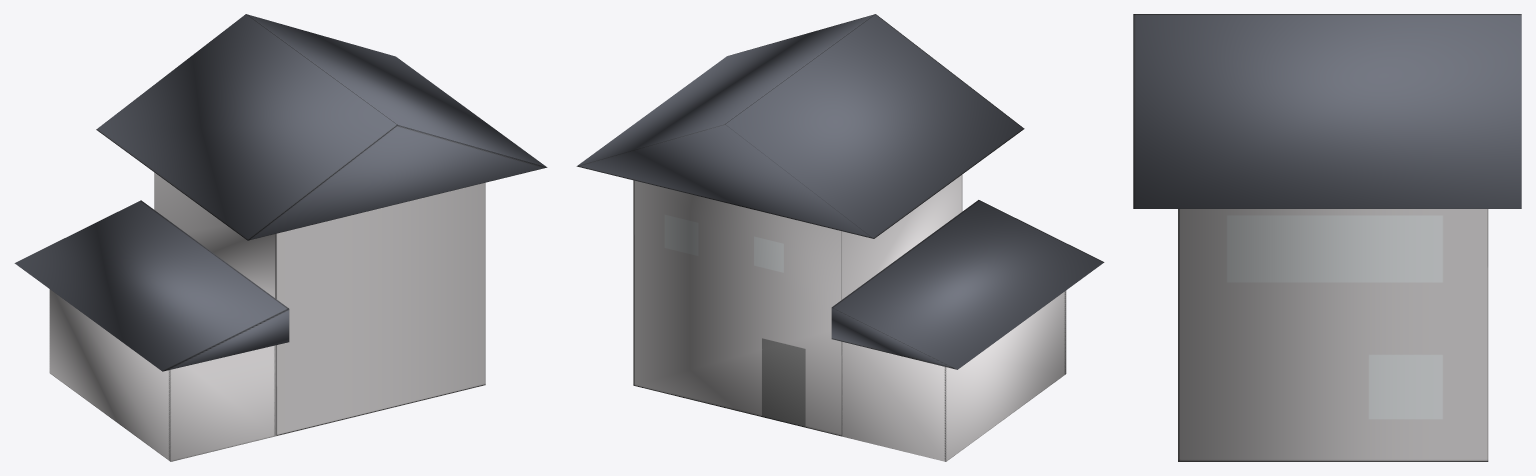
The model's file is house02.fbx.
3 views of the same model, side by side, from view 1: azimuth 30°, elevation 25°; view 2: azimuth 150°, elevation 25°; view 3: azimuth 270°, elevation 25° (orthographic). The views are drawn at different scales.
Visible parts, largest first — view 1: Cube; view 2: Cube; view 3: Cube.
Part boxes in pixels (bbox=[...]): Cube: bbox=[14, 14, 547, 461]; Cube: bbox=[576, 14, 1104, 461]; Cube: bbox=[1133, 14, 1521, 461].
Size of the model in its own units: 7.29 by 5.44 by 5.01.
1 material, 1 textured.
